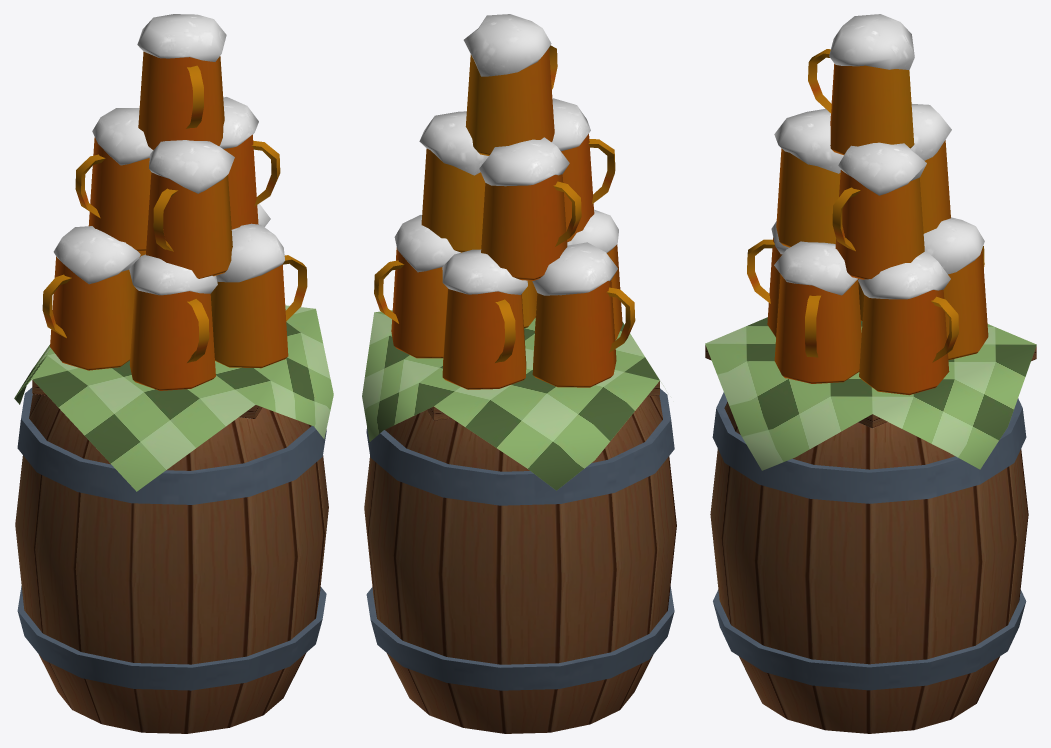
Rendered from barrel-beer-mountain.glb.
3 views of the same model, side by side, from view 1: azimuth 30°, elevation 25°; view 2: azimuth 150°, elevation 25°; view 3: azimuth 270°, elevation 25° (orthographic).
Visible parts, largest first — view 1: Barrel_Beer_Mountain; view 2: Barrel_Beer_Mountain; view 3: Barrel_Beer_Mountain.
Boxes of the visible parts, left/top/right/bottom form: Barrel_Beer_Mountain: left=14, top=14, right=333, bottom=733; Barrel_Beer_Mountain: left=362, top=14, right=676, bottom=733; Barrel_Beer_Mountain: left=705, top=14, right=1036, bottom=733.
Size of what is drawn, in the model's own units: 0.896 by 1.99 by 0.898.
Materials: 3 (3 with a texture image).
